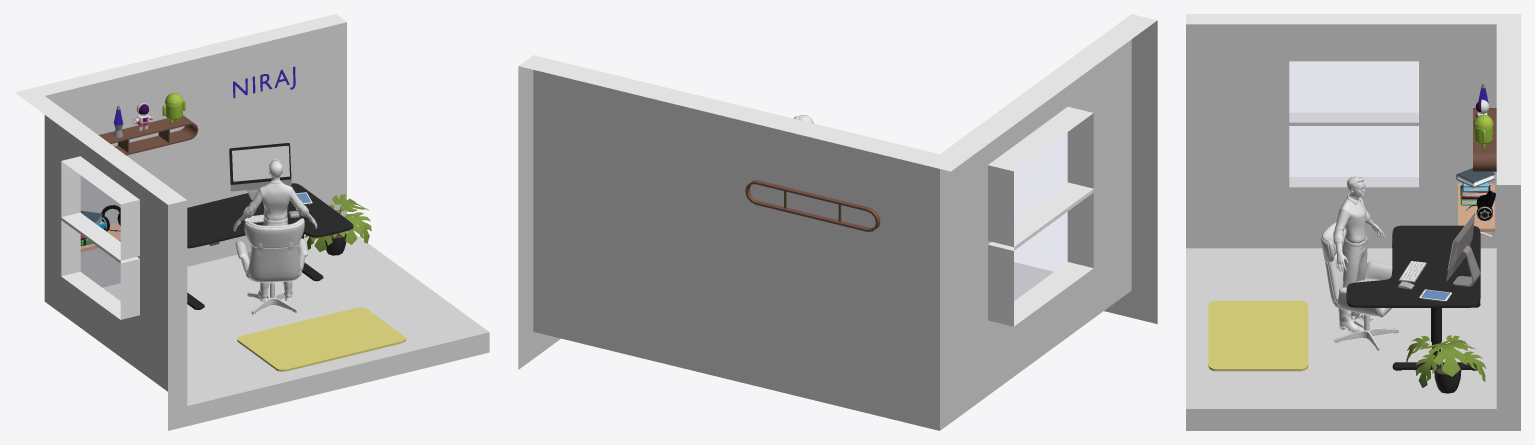
3 renders of one model, left to right at view 1: azimuth 30°, elevation 25°; view 2: azimuth 150°, elevation 25°; view 3: azimuth 270°, elevation 25°, orthographic. The views are drawn at different scales.
Parts seen in each view (by area): view 1: Plane, WawaRug, Desk, office-chair, SM_Shelf:SM_Shelf1, Houseplant, Screen, Wolf3D_Outfit_Top, iMac, AndroidToy, TextName; view 2: Plane, SM_Shelf:SM_Shelf1; view 3: Plane, Desk, WawaRug, office-chair, Houseplant, Wolf3D_Outfit_Top, iMac, Wolf3D_Outfit_Bottom, BookStack, SM_Shelf:SM_Shelf1, WallTable, AndroidToy (+4 smaller).
Boxes of the visible parts, x1,y1,x2,y2 form: Plane: (14,14,489,430); WawaRug: (237,307,406,371); Desk: (187,183,353,309); office-chair: (235,218,307,314); SM_Shelf:SM_Shelf1: (98,115,198,155); Houseplant: (305,194,371,255); Screen: (232,146,289,181); Wolf3D_Outfit_Top: (243,180,308,220); iMac: (229,143,291,200); AndroidToy: (162,92,185,123); TextName: (233,66,295,98); Plane: (518,14,1157,430); SM_Shelf:SM_Shelf1: (745,180,880,231); Plane: (1186,14,1520,430); Desk: (1346,225,1480,370); WawaRug: (1208,300,1308,371); office-chair: (1321,221,1398,350); Houseplant: (1405,335,1486,393); Wolf3D_Outfit_Top: (1333,193,1370,244); iMac: (1446,213,1480,286); Wolf3D_Outfit_Bottom: (1338,236,1367,321); BookStack: (1456,168,1495,205); SM_Shelf:SM_Shelf1: (1473,108,1496,171); WallTable: (1457,183,1494,241); AndroidToy: (1473,112,1493,148).
Size of the model in its own units: 5.72 by 3.84 by 4.74.
